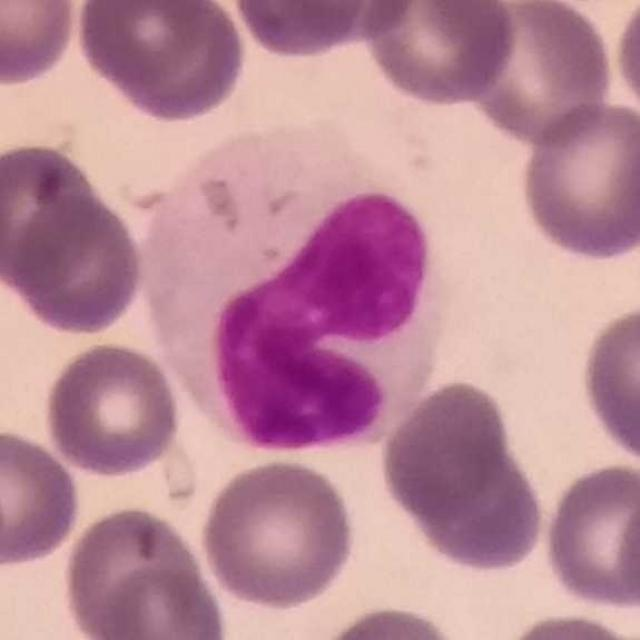mono: (141, 136, 455, 451)
